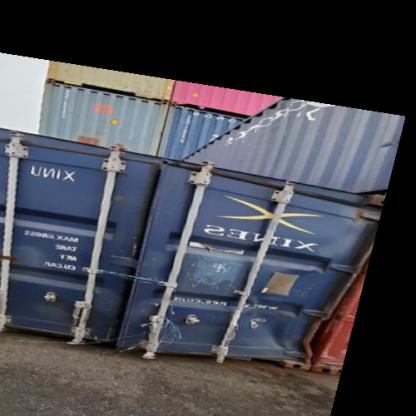Damage: (258, 307, 330, 371), (125, 302, 191, 352), (181, 246, 247, 290), (109, 183, 137, 207)
